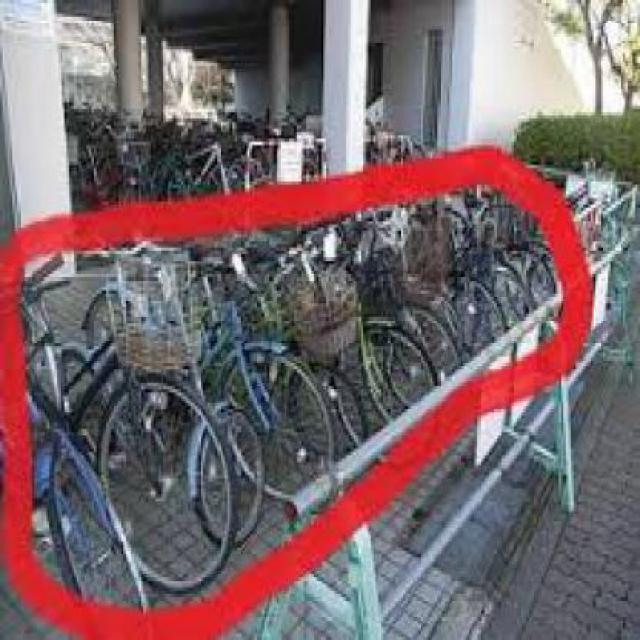bicycle: (17, 205, 237, 565)
